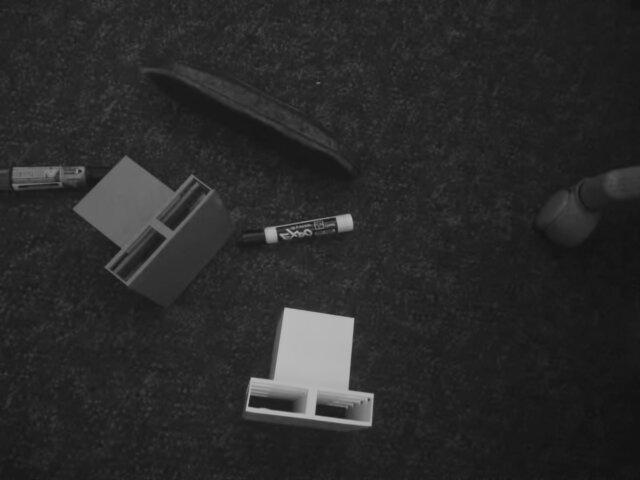grey pallet: (70, 146, 245, 307)
white pallet: (217, 303, 404, 434)
